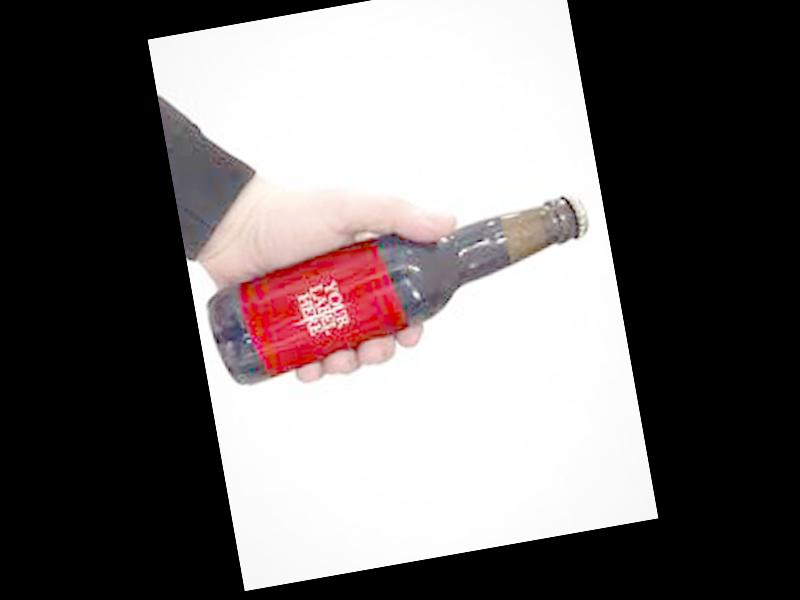Beer: (198, 189, 608, 391)
